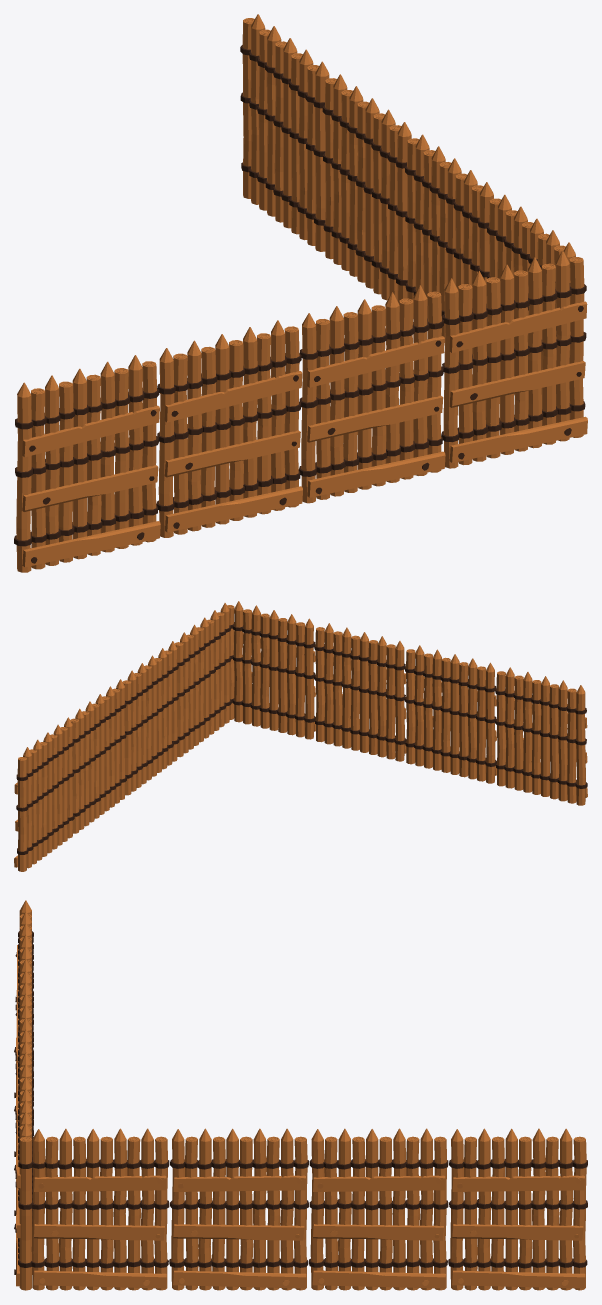
Rendered from fance.fbx.
The picture shows the model from 3 angles, top to bottom: view 1: azimuth 30°, elevation 25°; view 2: azimuth 150°, elevation 25°; view 3: azimuth 270°, elevation 25°; orthographic projection. The views are drawn at different scales.
Parts seen in each view (by area): view 1: fance; view 2: fance; view 3: fance.
Boxes of the visible parts, <box> form: fance: <box>14,14,587,572</box>; fance: <box>14,601,587,871</box>; fance: <box>14,900,587,1290</box>.
Bounding box in the file's own units: 8.61 × 2.69 × 8.79.
